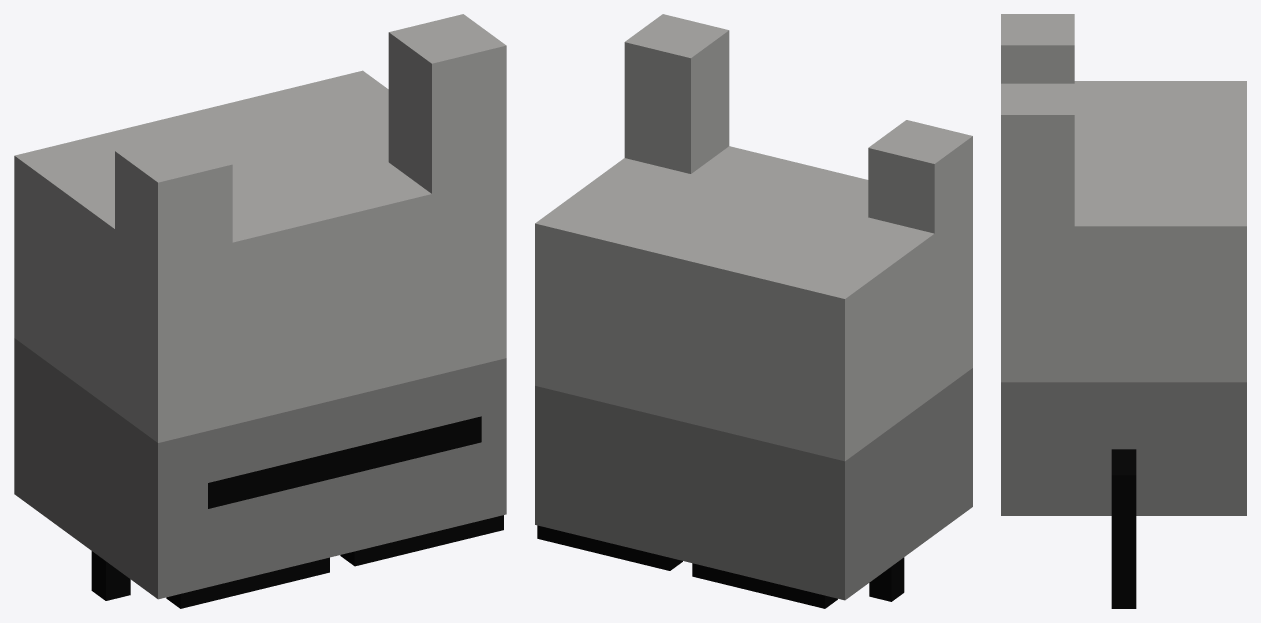
Rendered from rabbit.glb.
3 views of the same model, side by side, from view 1: azimuth 30°, elevation 25°; view 2: azimuth 150°, elevation 25°; view 3: azimuth 270°, elevation 25° (orthographic). The views are drawn at different scales.
Parts seen in each view (by area): view 1: base, mouth, glasses, layer-2; view 2: base, glasses, layer-2; view 3: base, glasses.
Boxes of the visible parts, bbox=[...] form: base: bbox=[14, 14, 506, 599]; mouth: bbox=[208, 416, 481, 508]; glasses: bbox=[91, 515, 503, 608]; layer-2: bbox=[180, 515, 503, 608]; base: bbox=[535, 14, 972, 600]; glasses: bbox=[537, 525, 904, 608]; layer-2: bbox=[537, 526, 824, 608]; base: bbox=[1001, 14, 1246, 515]; glasses: bbox=[1111, 449, 1136, 608].
Size of the model in its own units: 16.5 by 21 by 10.
9 materials, 9 textured.
